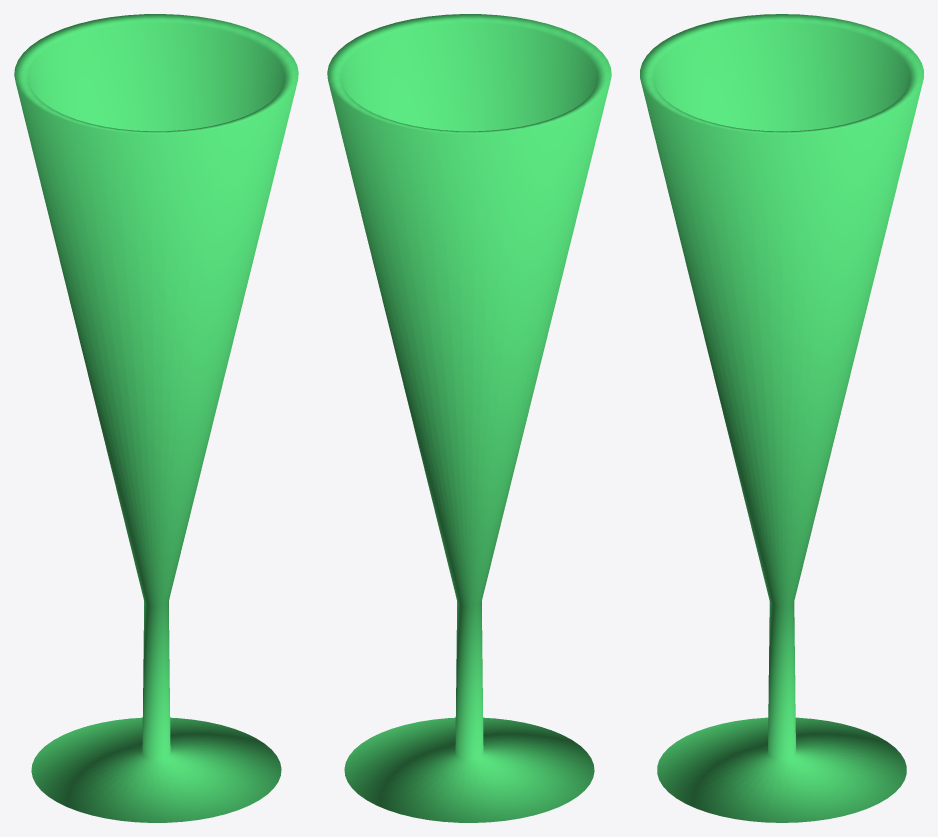
Rendered from Collection_9.fbx.
3 views of the same model, side by side, from view 1: azimuth 30°, elevation 25°; view 2: azimuth 150°, elevation 25°; view 3: azimuth 270°, elevation 25° (orthographic).
Parts seen in each view (by area): view 1: KitchenGlasses.009; view 2: KitchenGlasses.009; view 3: KitchenGlasses.009.
Part boxes in pixels (left/top/right/bottom): KitchenGlasses.009: left=14, top=14, right=298, bottom=822; KitchenGlasses.009: left=327, top=14, right=611, bottom=822; KitchenGlasses.009: left=640, top=14, right=923, bottom=822.
Bounding box in the file's own units: 0.059 × 0.1591 × 0.0588.
